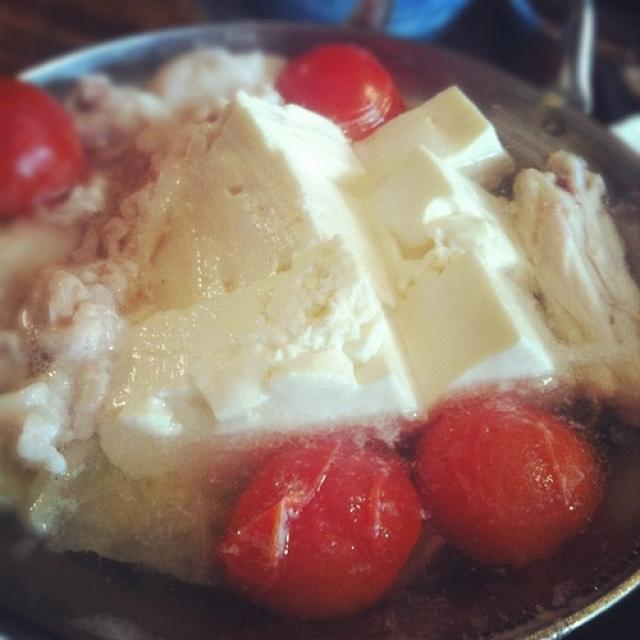豆腐料理: (9, 32, 635, 602)
